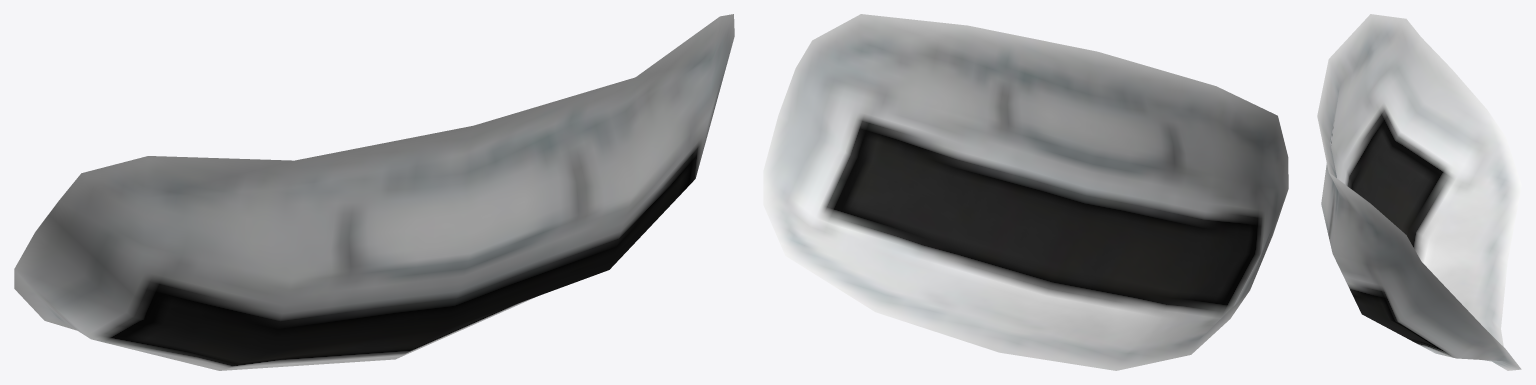
Rendered from barbilla.fbx.
3 views of the same model, side by side, from view 1: azimuth 30°, elevation 25°; view 2: azimuth 150°, elevation 25°; view 3: azimuth 270°, elevation 25° (orthographic). The views are drawn at different scales.
Parts seen in each view (by area): view 1: barbilla; view 2: barbilla; view 3: barbilla.
Part boxes in pixels (box(x1,y1,x2,y2)): barbilla: box(14, 14, 734, 370); barbilla: box(763, 14, 1288, 370); barbilla: box(1317, 14, 1521, 370).
Bounding box in the file's own units: 3.94 × 1.8 × 1.51.
